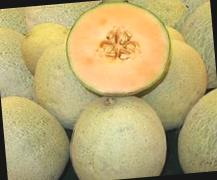Melon Ripe: (62, 0, 175, 100), (64, 92, 169, 180)
